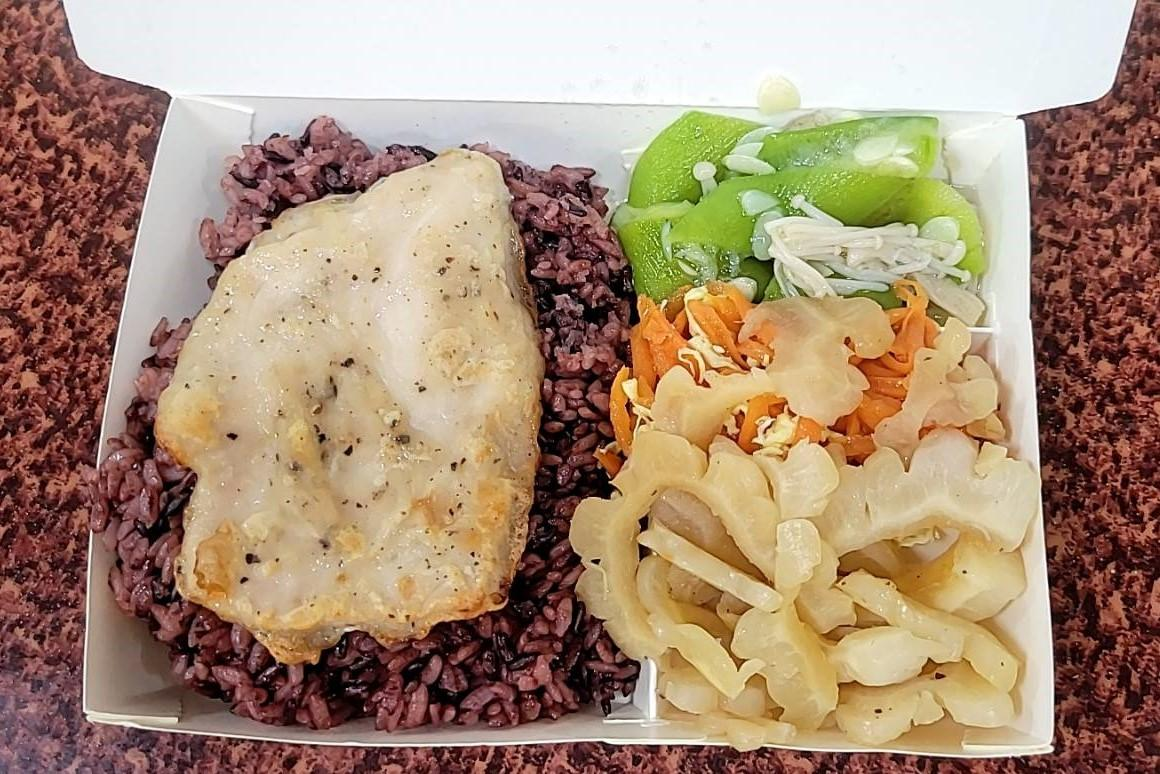big grilled chicken leg: (77, 89, 1066, 765)
braised fish: (130, 120, 638, 727)
braised fish fillet: (595, 429, 1029, 741), (629, 124, 985, 314), (622, 309, 1011, 463)
braised pork: (156, 142, 554, 652)
